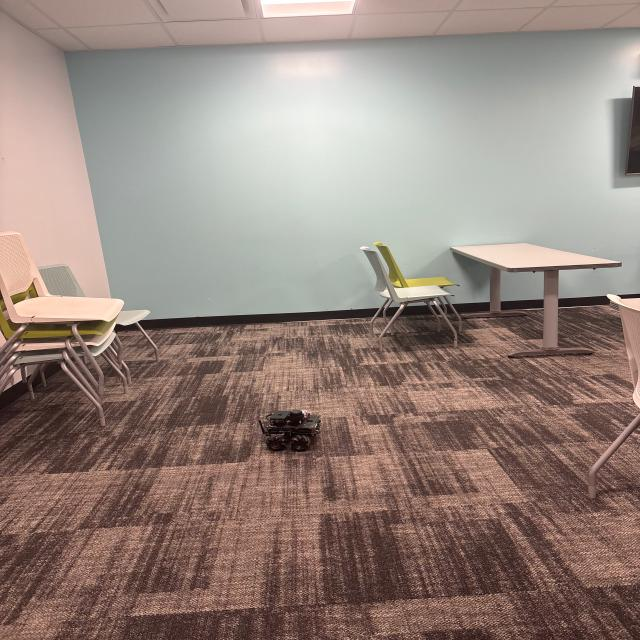ArduinoCar3: (254, 408, 320, 450)
